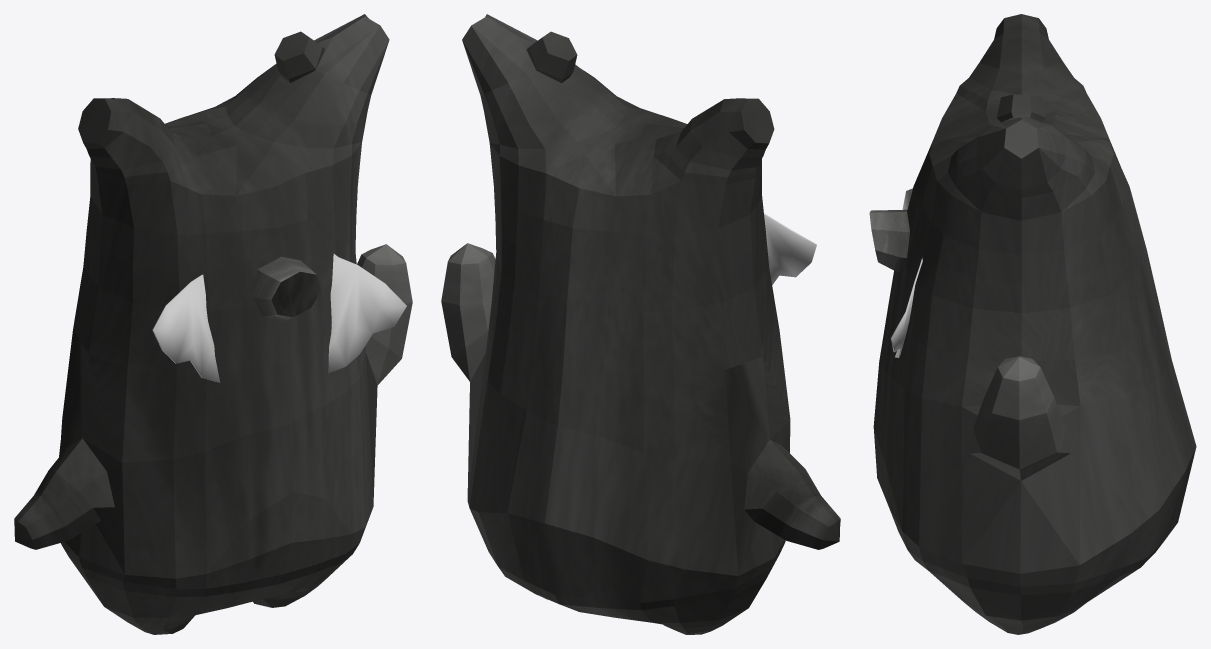
The model's file is frame_0042.obj.
3 views of the same model, side by side, from view 1: azimuth 30°, elevation 25°; view 2: azimuth 150°, elevation 25°; view 3: azimuth 270°, elevation 25° (orthographic). The views are drawn at different scales.
Parts seen in each view (by area): view 1: korok, leaf, nose; view 2: korok, leaf; view 3: korok, nose, leaf.
Part boxes in pixels (x1,y1,x2,y2): korok: (14,14,412,634); leaf: (152,254,406,382); nose: (250,256,321,320); korok: (441,14,840,634); leaf: (764,213,816,284); korok: (873,14,1196,634); nose: (869,209,909,273); leaf: (890,188,922,357).
Bounding box in the file's own units: 1.61 × 2.22 × 1.18.
